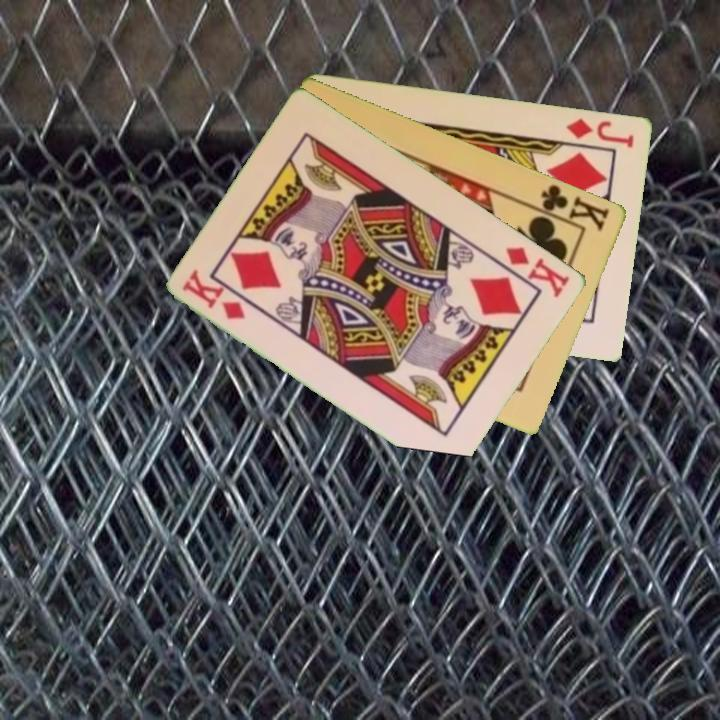Jd: (563, 114, 638, 150)
Kc: (529, 180, 613, 234)
Kd: (502, 243, 574, 301), (179, 266, 250, 323)
